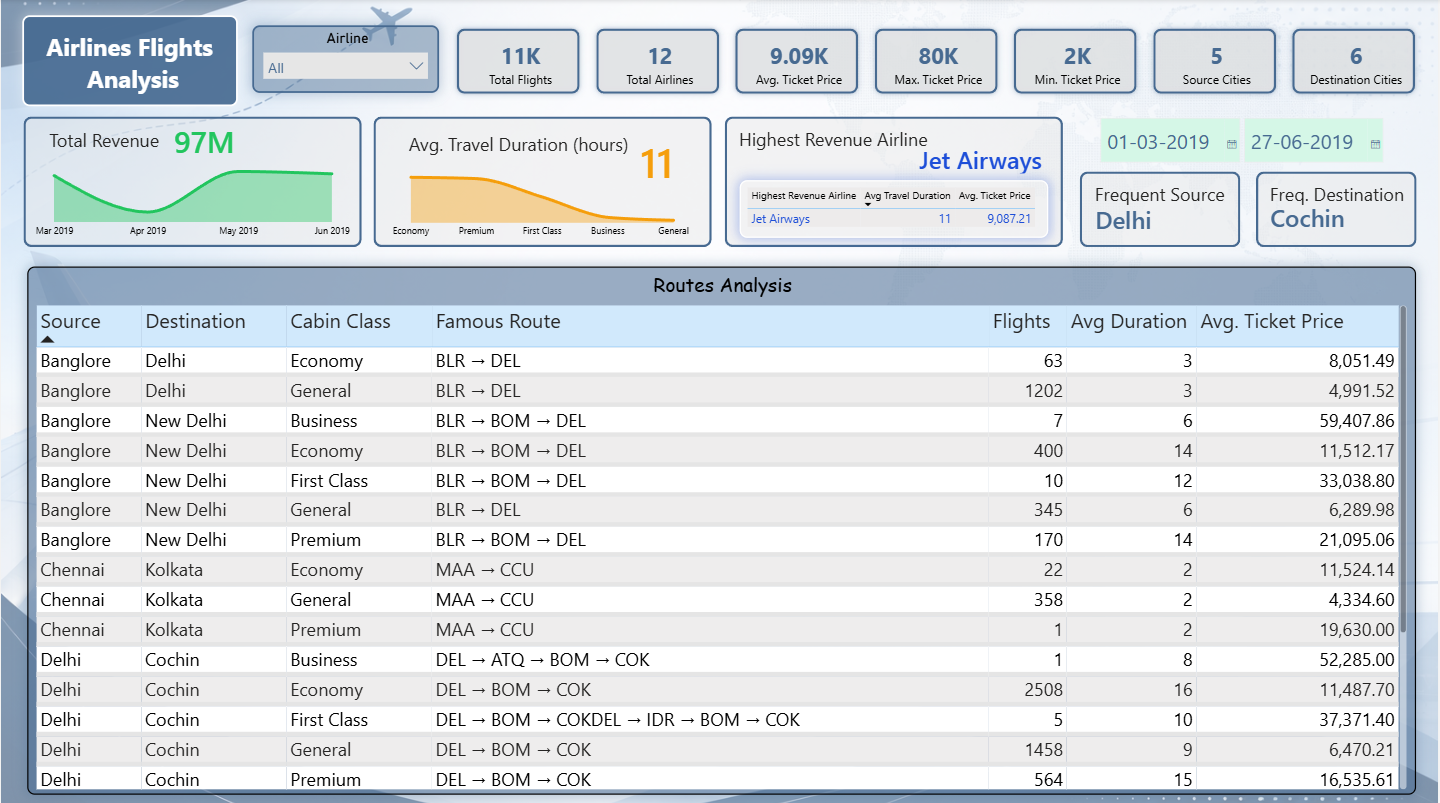

What the dashboard file says about the page in this screenshot:
{"tool":"powerbi","page":{"name":"Routes Analysis","canvas":[1920,1080],"ordinal":1},"visuals":[{"type":"textbox","box":[29,21.7,288,121.4],"z":0},{"type":"slicer","title":"Airline ","fields":{"Values":["Sheet1.Airline"]},"box":[335.1,34.4,250,90.6],"z":1000},{"type":"cardVisual","fields":{"Data":["Measure.Total Flights","Measure.Total Airlines","Measure.Avg. Ticket Price","Measure.Max. Ticket Price","Measure.Min. Ticket Price","Measure.Total Source Cities","Measure.Total Destination Cities"]},"box":[580.4,12.2,1339.5,143],"z":2000},{"type":"shape","box":[29.7,157,451.7,174.4],"z":3000},{"type":"shape","box":[498.1,157,451.7,174.4],"z":4000},{"type":"textbox","box":[35.5,167.3,205.5,54.5],"z":5000},{"type":"shape","box":[966.6,157,451.7,174.4],"z":6000},{"type":"lineChart","title":"Average Duration Time of Cabin Class","fields":{"Category":["Sheet1.Date_of_Journey.Variation.Date Hierarchy.Year","Sheet1.Date_of_Journey.Variation.Date Hierarchy.Month"],"Y":["Measure.Total Revenue"]},"box":[40,199.4,431.1,129.4],"z":7000},{"type":"shape","box":[1440.7,230.2,214.5,101.2],"z":8000},{"type":"textbox","box":[537.1,171.8,314,47.6],"z":9000},{"type":"textbox","box":[962.8,165.7,296.5,78.5],"z":10000},{"type":"textbox","box":[1456.4,239,205.8,82],"z":11000},{"type":"cardVisual","fields":{"Data":["Measure.Total Revenue"]},"box":[202.3,151.7,155.2,73.3],"z":12000},{"type":"lineChart","title":"Average Duration Time of Cabin Class","fields":{"Y":["Measure.Avg Travel Duration"],"Category":["Sheet1.Cabin Class"]},"box":[507.2,199.4,431.1,129.4],"z":13000},{"type":"cardVisual","fields":{"Data":["Measure.Avg Travel Duration"]},"box":[825,164,136,102.9],"z":14000},{"type":"tableEx","title":"Average Duration Time of Cabin Class","fields":{"Values":["Measure.Highest Revenue Airline","Measure.Avg Travel Duration","Measure.Avg. Ticket Price"]},"box":[987.2,242.4,411.6,76.7],"z":15000},{"type":"cardVisual","fields":{"Data":["Measure.Highest Revenue Airline"]},"box":[983.4,176.2,436.4,73.3],"z":16000},{"type":"cardVisual","fields":{"Data":["Measure.Famous Source"]},"box":[1432,254.7,239,76.7],"z":17000},{"type":"slicer","fields":{"Values":["Sheet1.Date_of_Journey"]},"box":[1456.8,148.4,398.1,81.4],"z":18000},{"type":"tableEx","title":"Routes Analysis","fields":{"Values":["Dataset.Source","Dataset.Destination","Dataset.Cabin Class","Measure.Famous Route","Measure.Total Flights","Measure.Avg Travel Duration","Measure.Avg. Ticket Price"]},"box":[34.4,356.5,1854.9,705.8],"z":19000},{"type":"shape","box":[1676.2,230.2,214.5,101.2],"z":20000},{"type":"textbox","box":[1690.1,239,190.1,89],"z":21000},{"type":"cardVisual","fields":{"Data":["Measure.Famous Destination"]},"box":[1665.7,252.9,239,76.7],"z":22000}]}

Visuals, with their boxes in screenshot pixels (x1, y1, x2, y2), scaled from the page's 1920x1080 canvas onto the 1440x803 screenshot:
textbox: (left=22, top=16, right=238, bottom=106)
"Airline " slicer: (left=251, top=26, right=439, bottom=93)
cardVisual - Measure.Total Flights x Measure.Total Airlines: (left=435, top=9, right=1439, bottom=115)
shape: (left=22, top=117, right=361, bottom=246)
shape: (left=374, top=117, right=712, bottom=246)
textbox: (left=27, top=124, right=181, bottom=165)
shape: (left=725, top=117, right=1064, bottom=246)
"Average Duration Time of Cabin Class" lineChart: (left=30, top=148, right=353, bottom=244)
shape: (left=1081, top=171, right=1241, bottom=246)
textbox: (left=403, top=128, right=638, bottom=163)
textbox: (left=722, top=123, right=944, bottom=182)
textbox: (left=1092, top=178, right=1247, bottom=239)
cardVisual - Measure.Total Revenue: (left=152, top=113, right=268, bottom=167)
"Average Duration Time of Cabin Class" lineChart: (left=380, top=148, right=704, bottom=244)
cardVisual - Measure.Avg Travel Duration: (left=619, top=122, right=721, bottom=198)
"Average Duration Time of Cabin Class" tableEx: (left=740, top=180, right=1049, bottom=237)
cardVisual - Measure.Highest Revenue Airline: (left=738, top=131, right=1065, bottom=186)
cardVisual - Measure.Famous Source: (left=1074, top=189, right=1253, bottom=246)
slicer - Sheet1.Date_of_Journey: (left=1093, top=110, right=1391, bottom=171)
"Routes Analysis" tableEx: (left=26, top=265, right=1417, bottom=790)
shape: (left=1257, top=171, right=1418, bottom=246)
textbox: (left=1268, top=178, right=1410, bottom=244)
cardVisual - Measure.Famous Destination: (left=1249, top=188, right=1429, bottom=245)
